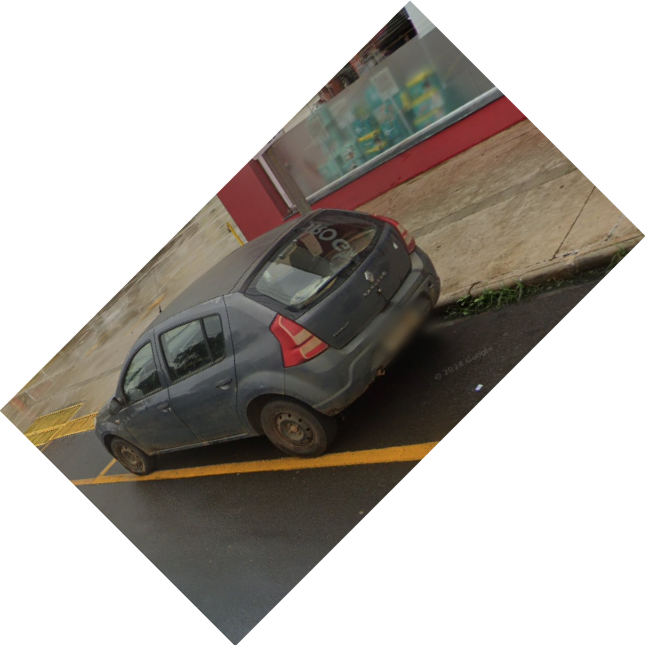car: (91, 204, 452, 482)
